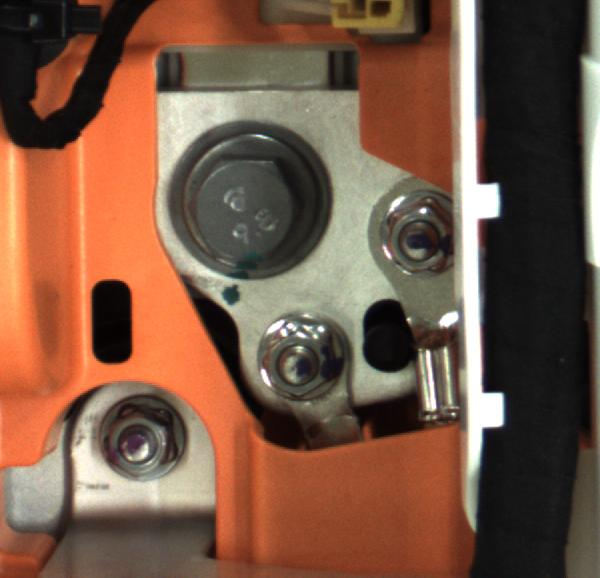nut_b: (161, 124, 339, 286)
screw_s: (89, 389, 199, 497), (253, 311, 348, 405), (371, 185, 456, 283)
